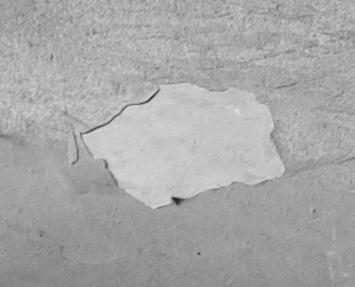paint-off: (1, 1, 355, 287)
